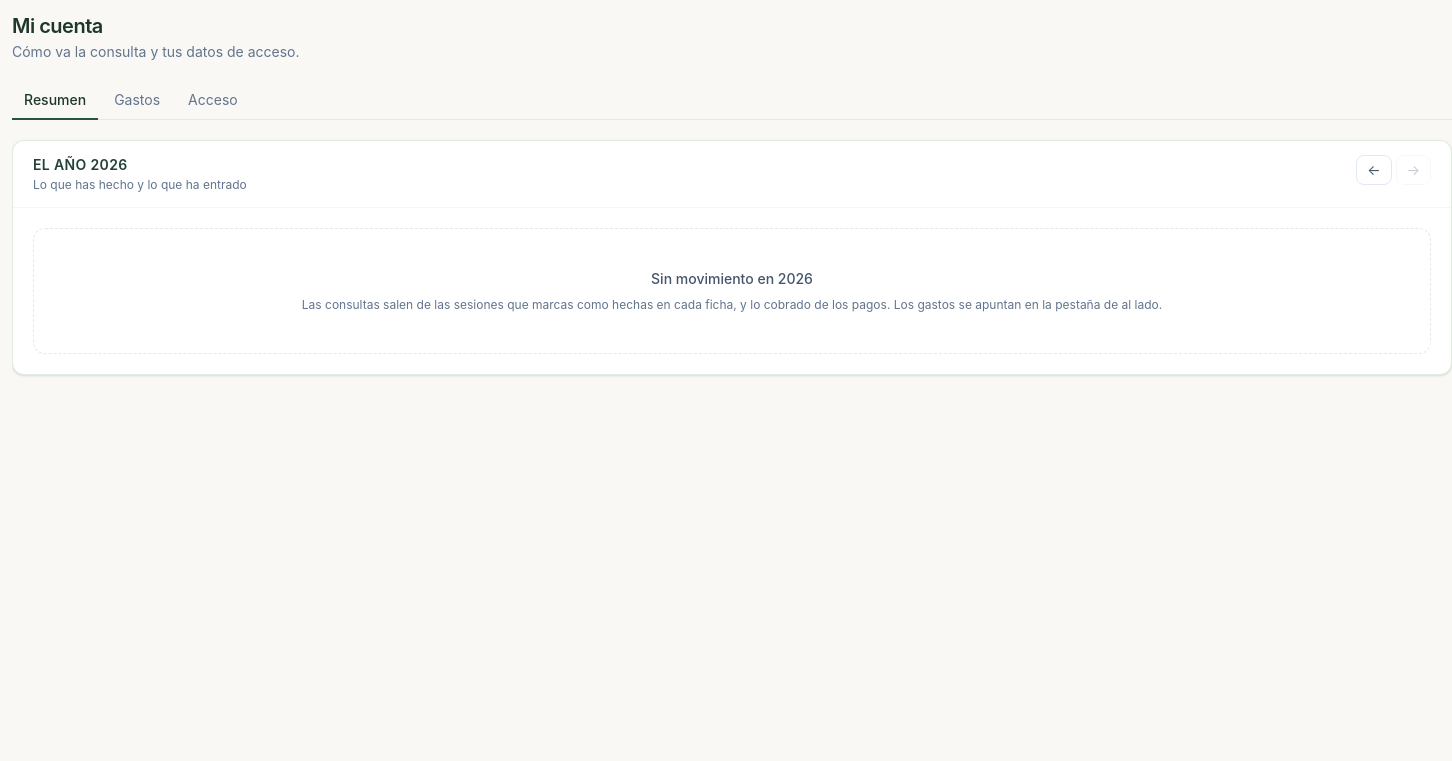
Los datos de acceso › avisando si las dos nuevas no coinciden
Click the button "Acceso" at point(213, 101), box [176,82,250,120]
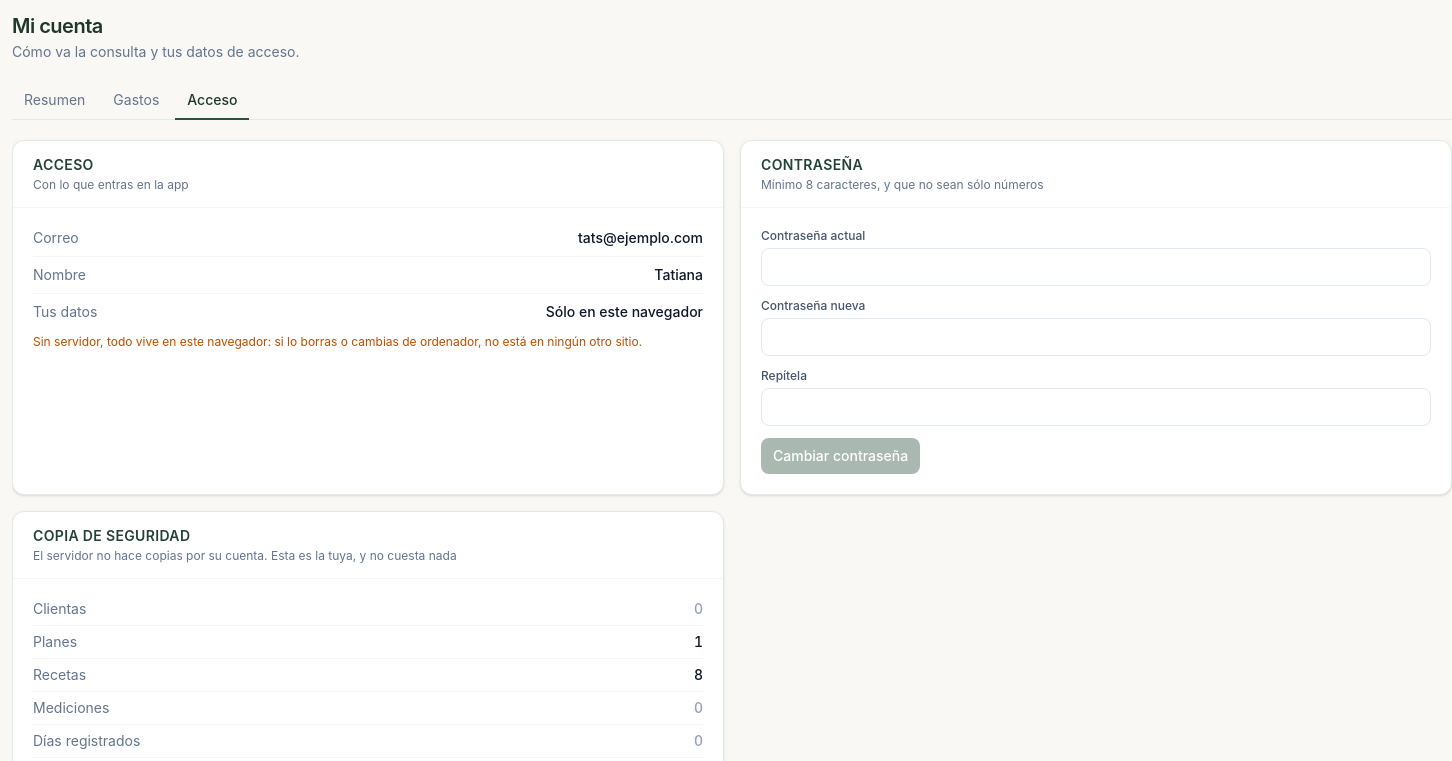
Type "unaclave123" into the password field labelled "Contraseña nueva" at point(1096, 337), box [761,318,1431,356]
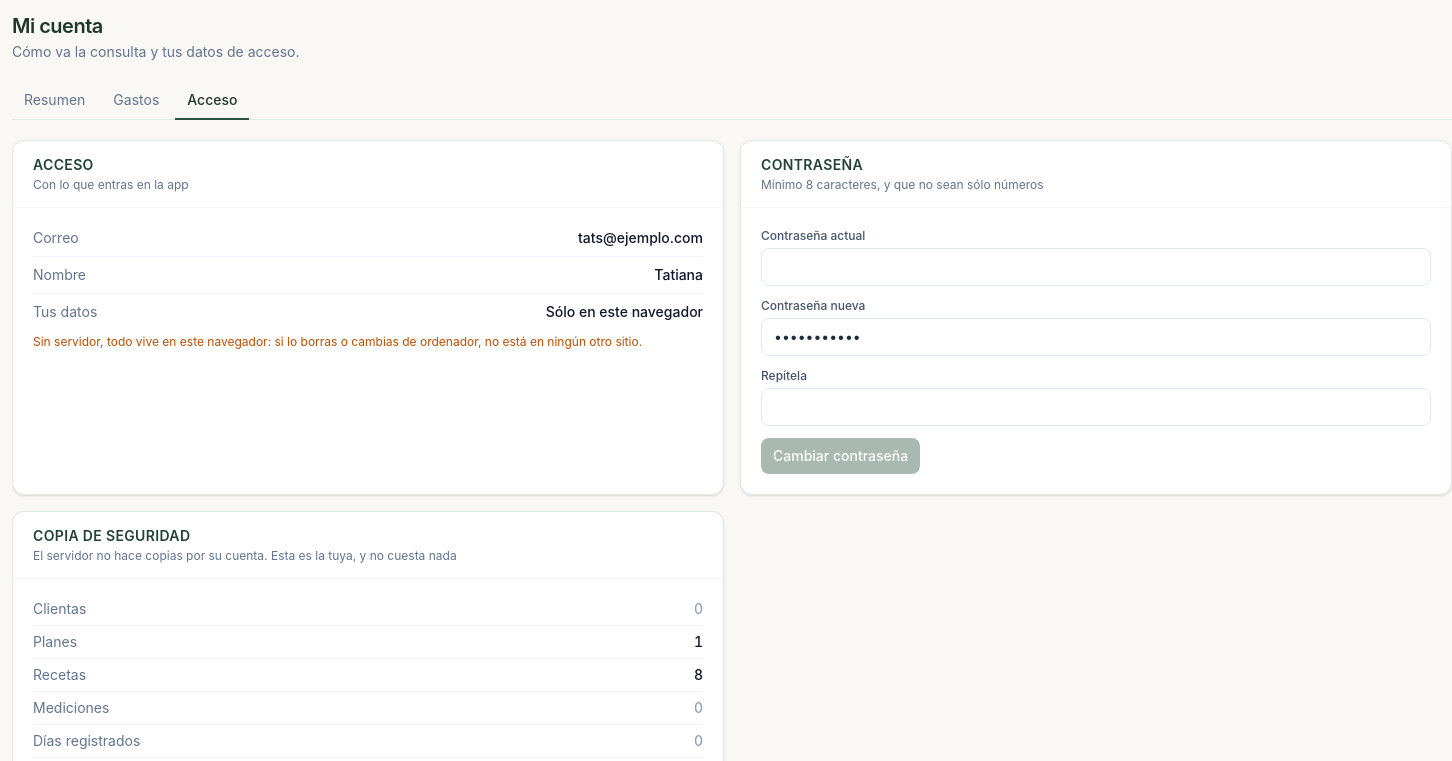
Type "otraclave123" into the password field labelled "Repítela" at point(1096, 407), box [761,388,1431,426]
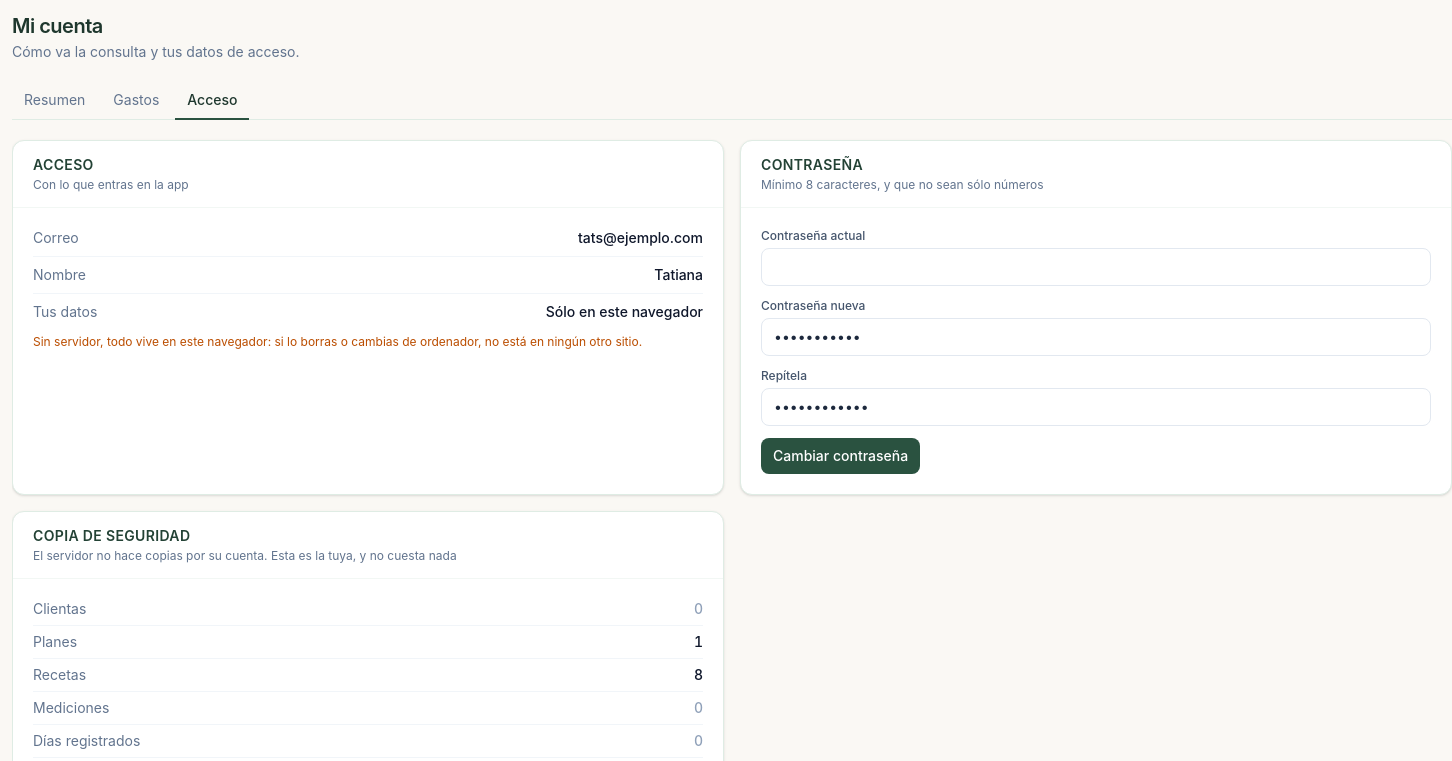
Click the button "Cambiar contraseña" at point(841, 456), box [761,438,920,474]
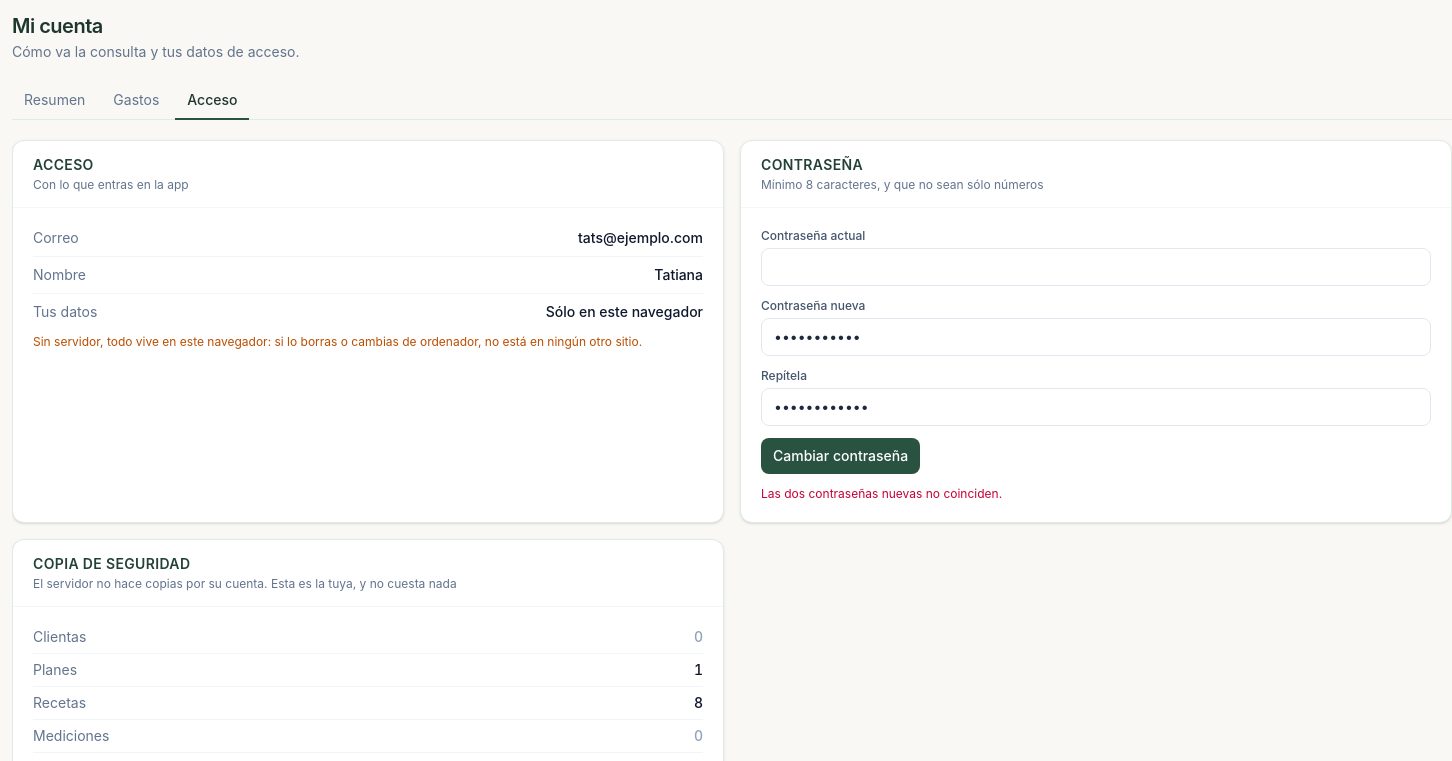
Expected: the text "Las dos contraseñas nuevas no coinciden." is shown, [761,486,1002,501]
